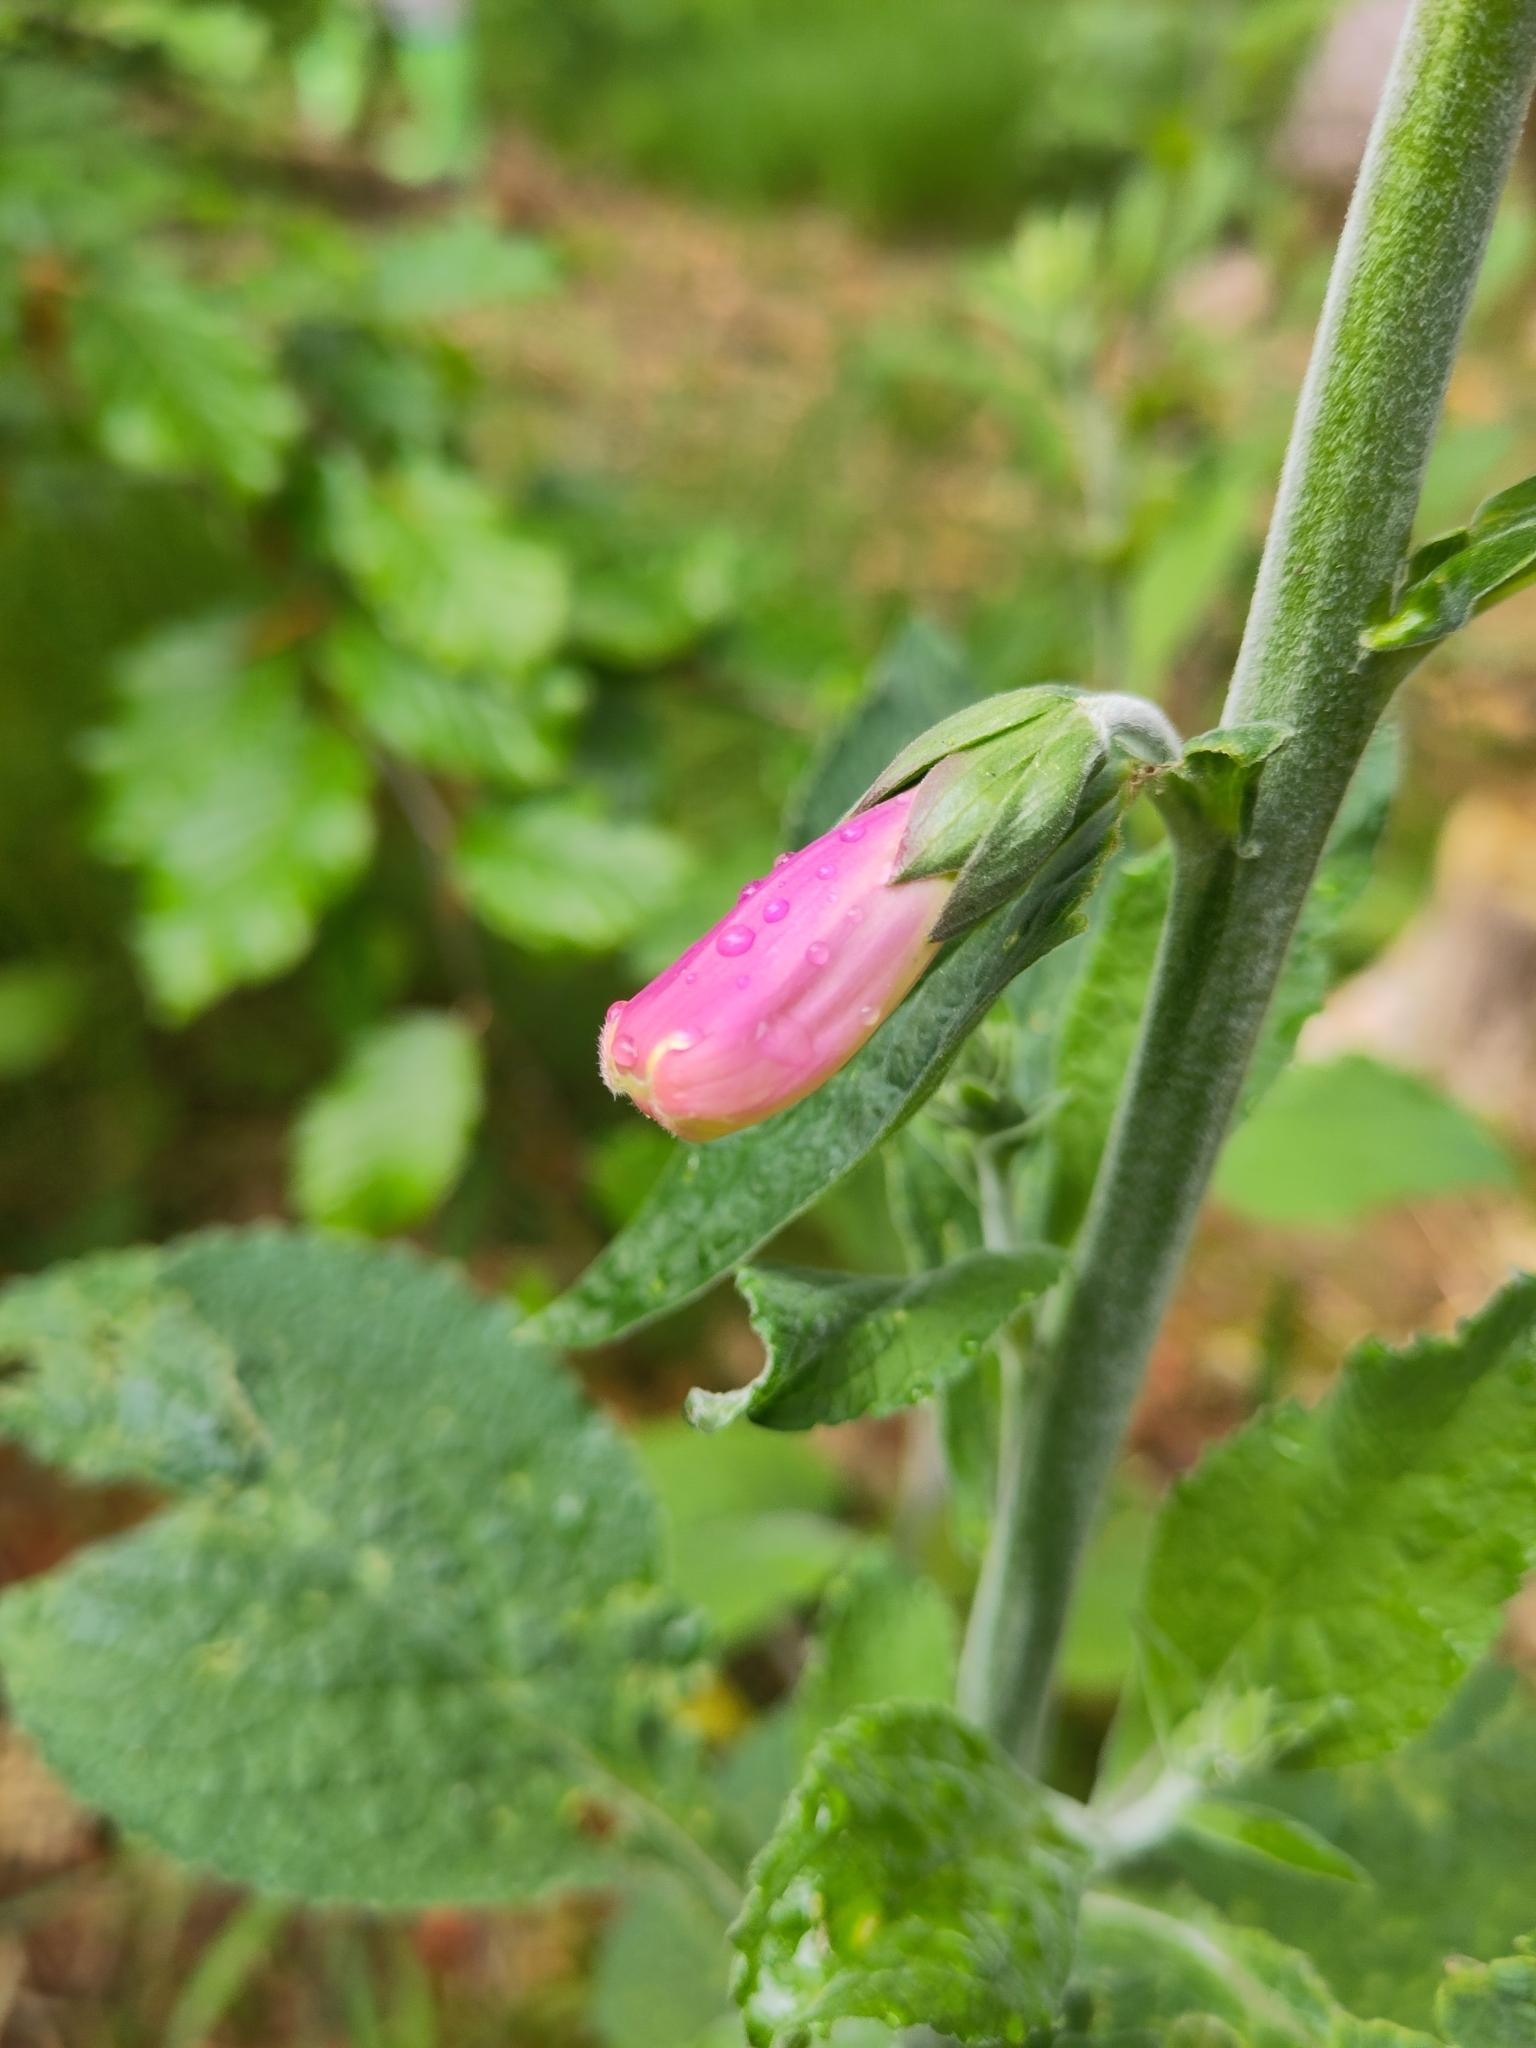Digitalis L: (573, 632, 1160, 1148)
